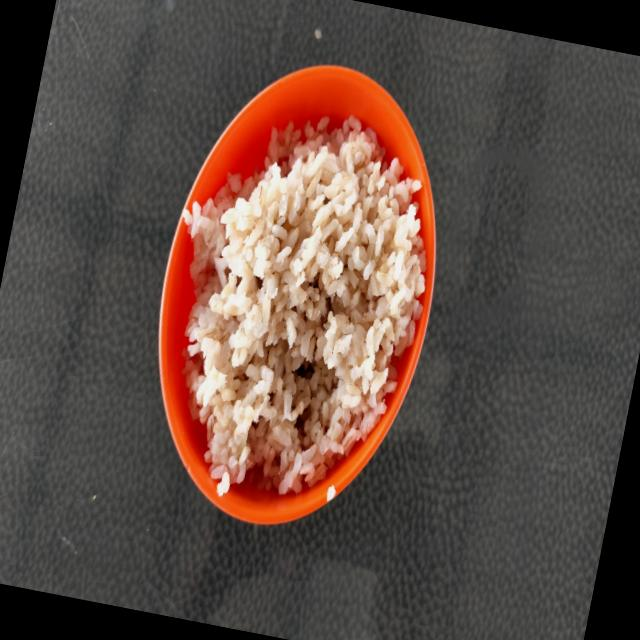brown-rice: (182, 116, 426, 495)
